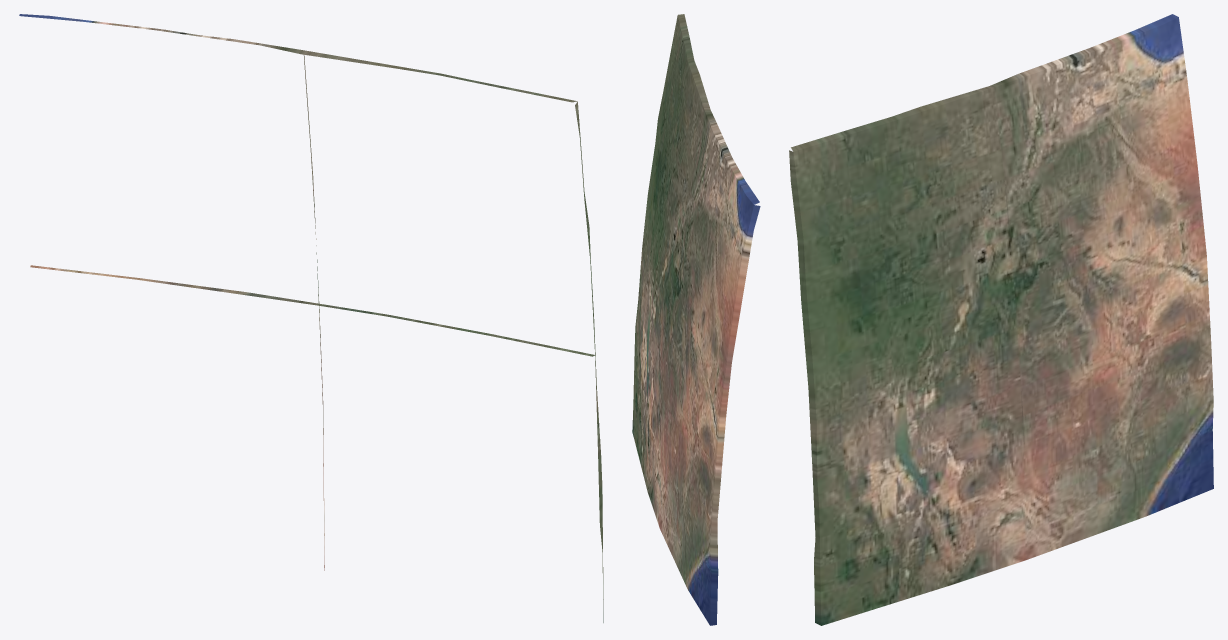
The picture shows the model from 3 angles, left to right: view 1: azimuth 30°, elevation 25°; view 2: azimuth 150°, elevation 25°; view 3: azimuth 270°, elevation 25°; orthographic projection. The views are drawn at different scales.
Bounding box in the file's own units: 905183 × 1253931 × 1046739.
1 material, 1 textured.
